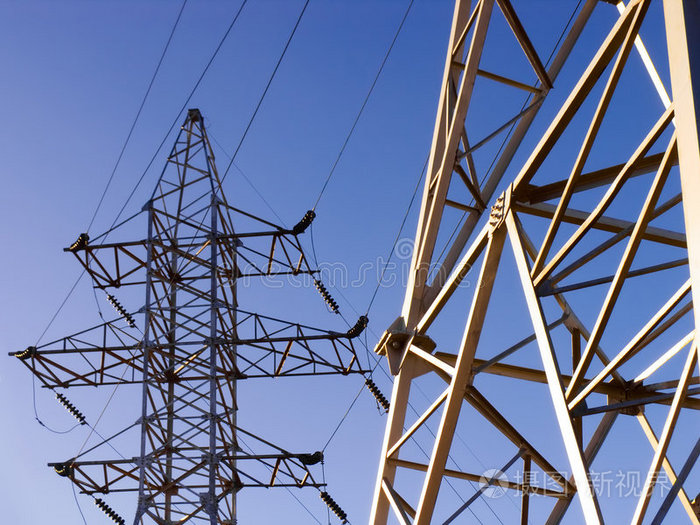insulator: (56, 386, 85, 426), (312, 277, 340, 314), (106, 295, 134, 326), (319, 491, 347, 522), (96, 497, 126, 525), (363, 379, 389, 410)
